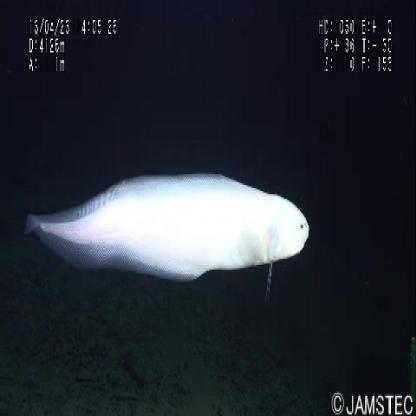Bio: (18, 168, 313, 288)
